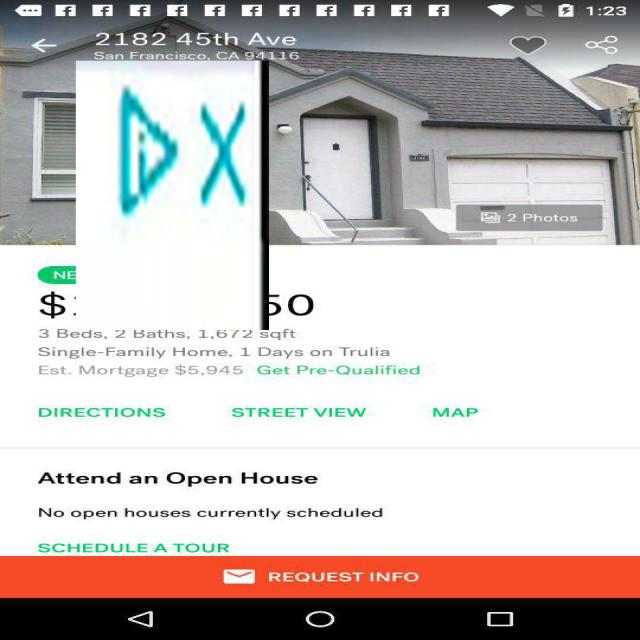sneaking: (76, 61, 269, 330)
